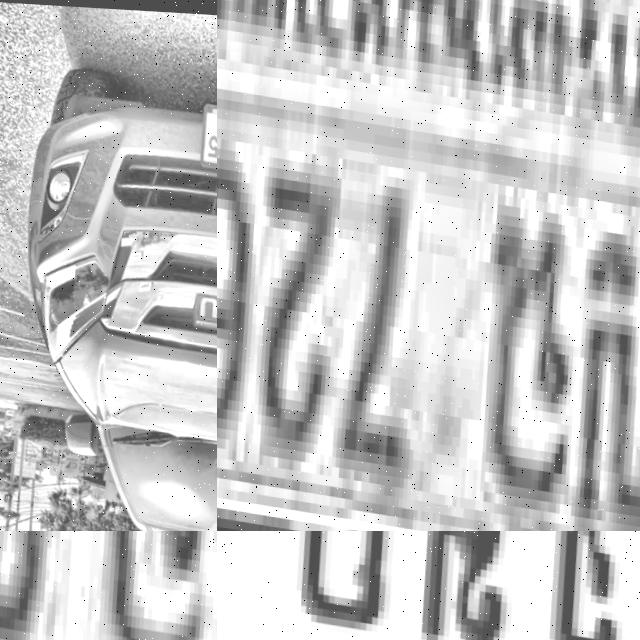license-plate: (217, 0, 640, 531), (217, 531, 640, 640), (0, 531, 217, 640), (192, 98, 217, 178)
